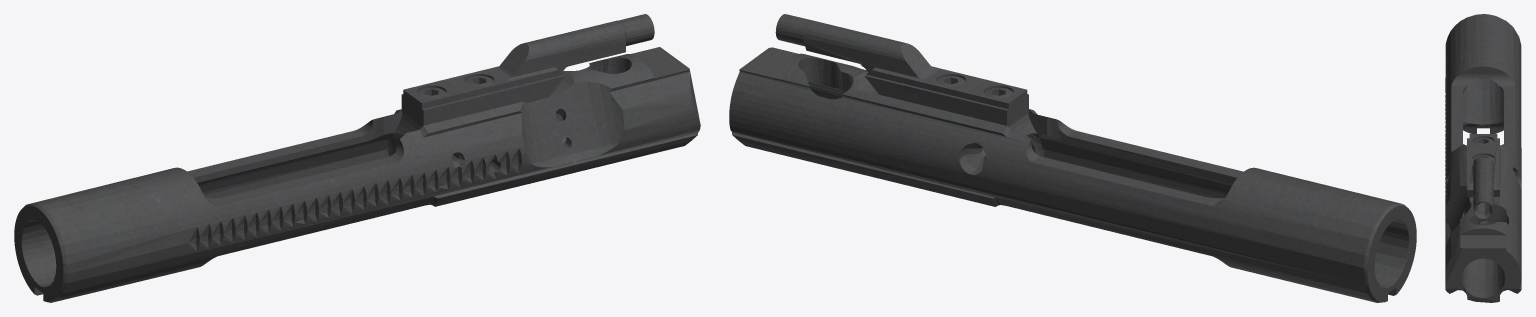
Rendered from Key_and_Bolt_Carrier_Assembly.dae.
3 renders of one model, left to right at view 1: azimuth 30°, elevation 25°; view 2: azimuth 150°, elevation 25°; view 3: azimuth 270°, elevation 25°, orthographic. The views are drawn at different scales.
Parts seen in each view (by area): view 1: Key_and_Bolt_Carrier_Assembly; view 2: Key_and_Bolt_Carrier_Assembly; view 3: Key_and_Bolt_Carrier_Assembly.
Part boxes in pixels (box(x1,y1,x2,y2)): Key_and_Bolt_Carrier_Assembly: box(14, 14, 700, 302); Key_and_Bolt_Carrier_Assembly: box(729, 14, 1416, 302); Key_and_Bolt_Carrier_Assembly: box(1445, 14, 1521, 302).
Size of the model in its own units: 0.1652 by 0.0231 by 0.0338.
1 material, 1 textured.
